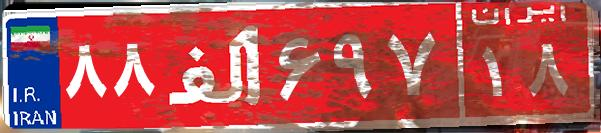1: (475, 38, 525, 113)
6: (273, 28, 330, 110)
7: (385, 28, 445, 110)
8: (57, 26, 110, 107), (110, 28, 158, 105), (525, 38, 570, 115)
9: (330, 28, 385, 110)
الف: (158, 15, 273, 115)
